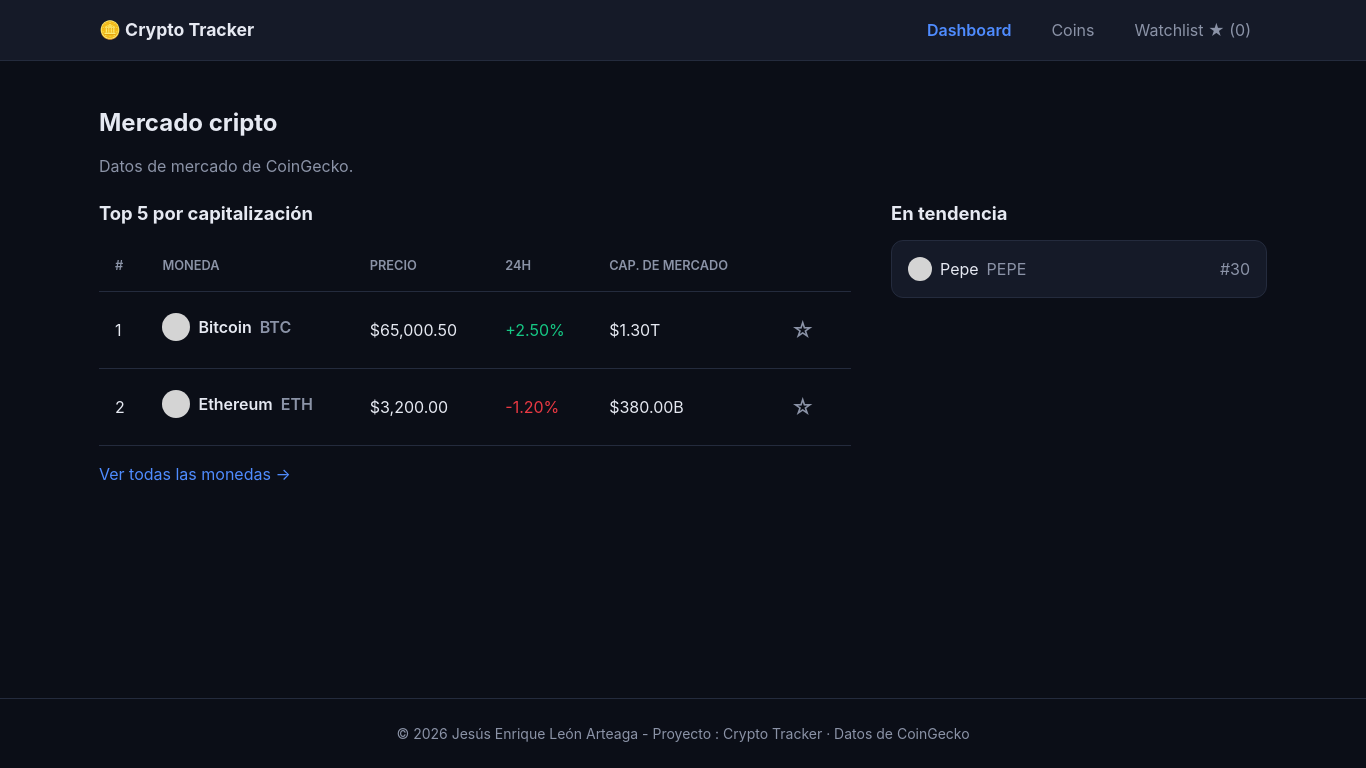
Test case: App › navega del Dashboard a la lista de monedas
The width and height of the screenshot is (1366, 768).
Expected: the text "Pepe" is shown, [940,257,979,281]
Step 1. Click the link "Coins" → {"x": 1073, "y": 30}, box [1051,20,1094,40]
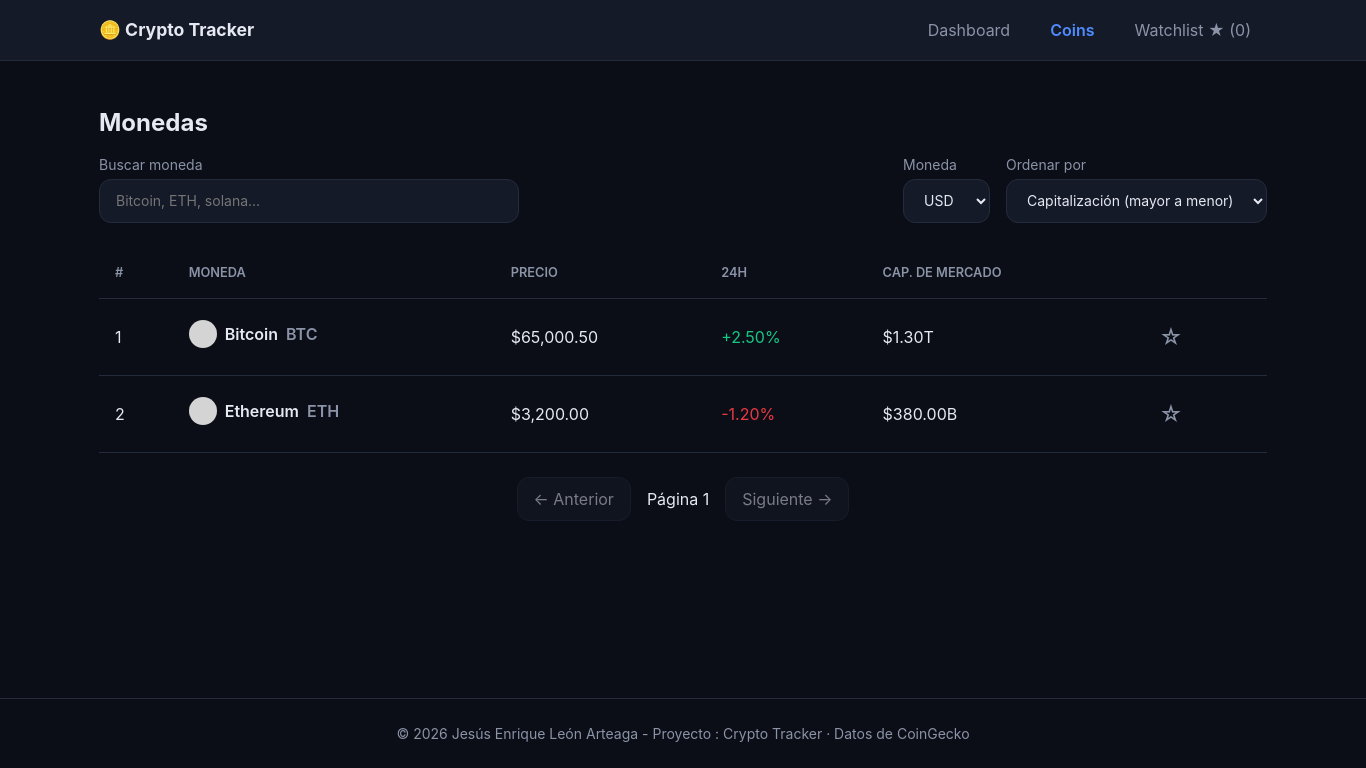
Expected: the text "Ethereum" is shown, [225,399,299,423]
Expected: the heading "Monedas" is shown, [99,108,208,137]
